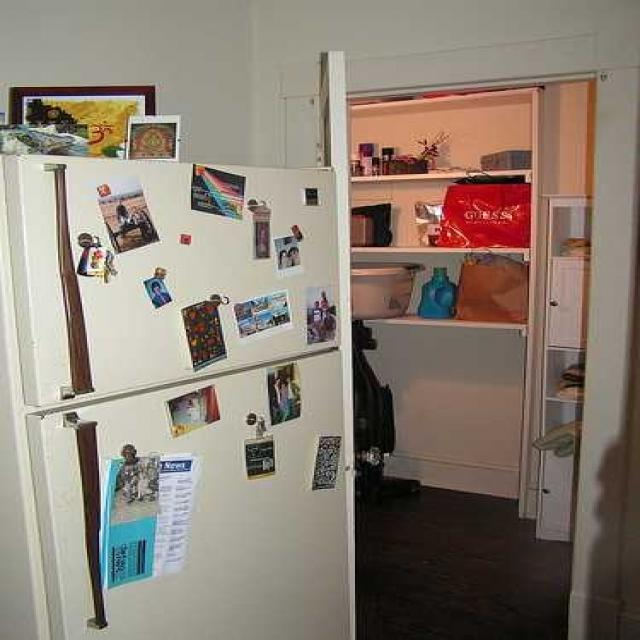refrigerator: (0, 153, 351, 640)
